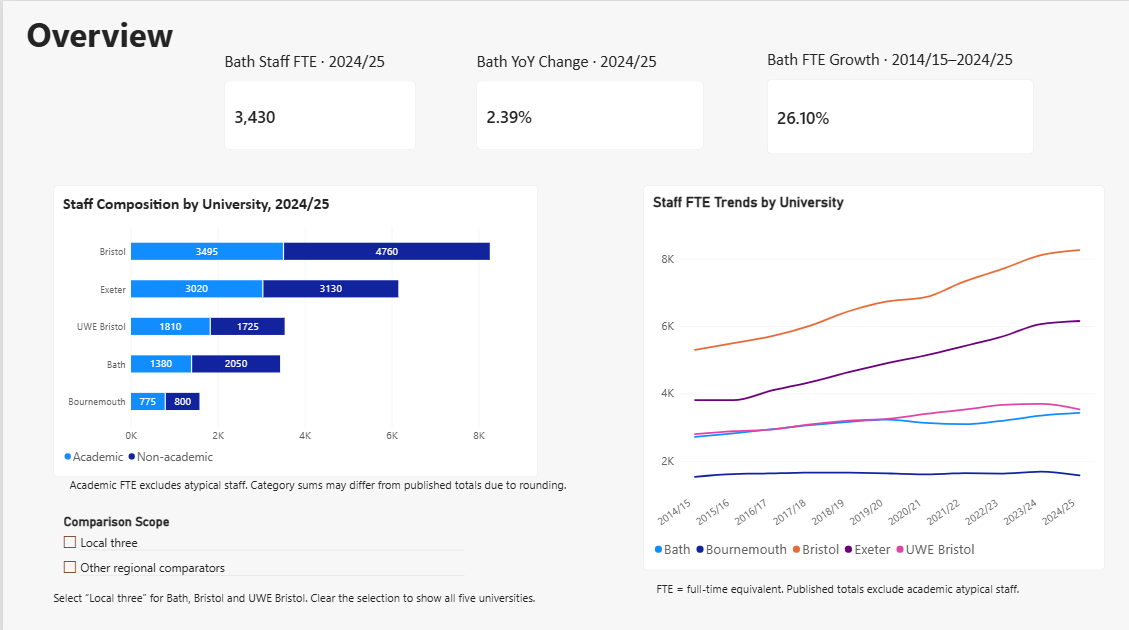

What the dashboard file says about the page in this screenshot:
{"tool":"powerbi","page":{"name":"Workforce Overview","canvas":[1920,1080],"ordinal":0},"visuals":[{"type":"lineChart","title":"Staff FTE Trends by University","fields":{"Category":["DimAcademicYear.academic_year"],"Series":["vw_hesa_selected_providers.provider_short_name"],"Y":["hesa_selected_published_totals.Published Total FTE"]},"box":[1085,312.5,782.5,652.5],"z":0},{"type":"textbox","box":[1107.5,982.5,686,32],"z":1000},{"type":"slicer","fields":{"Values":["vw_hesa_selected_providers.comparison_scope"]},"box":[96,870,687.5,187.5],"z":2000},{"type":"textbox","box":[86,997.5,910,42.5],"z":3000},{"type":"barChart","title":"Staff Composition by University, 2024/25","fields":{"Category":["vw_hesa_selected_providers.provider_short_name"],"Series":["hesa_selected_staff_composition.staff_group"],"Y":["hesa_selected_staff_composition.Staff Group FTE"]},"box":[85,312.5,822,494],"z":4000},{"type":"textbox","box":[112.5,807.5,848.3,63.3],"z":5000},{"type":"cardVisual","title":"Bath Staff FTE · 2024/25","fields":{"Data":["hesa_selected_published_totals.Bath FTE 2024/25"]},"box":[375,85,325,167.5],"z":6000},{"type":"cardVisual","title":"Bath YoY Change · 2024/25","fields":{"Data":["hesa_selected_published_totals.Bath YoY Change %"]},"box":[802.5,85,385,167.5],"z":7000},{"type":"cardVisual","title":"Bath FTE Growth · 2014/15–2024/25","fields":{"Data":["hesa_selected_published_totals.Bath FTE Growth %"]},"box":[1295,82.5,452.5,177.5],"z":8000},{"type":"textbox","box":[40,17.5,472.5,87.5],"z":9000}]}

Visuals, with their boxes in screenshot pixels (x1, y1, x2, y2), scaled from the page's 1920x1080 canvas onto the 1129x630 screenshot:
"Staff FTE Trends by University" lineChart: 638/182/1098/563
textbox: 651/573/1055/592
slicer - vw_hesa_selected_providers.comparison_scope: 56/508/461/617
textbox: 51/582/586/607
"Staff Composition by University, 2024/25" barChart: 50/182/533/470
textbox: 66/471/565/508
"Bath Staff FTE · 2024/25" cardVisual: 221/50/412/147
"Bath YoY Change · 2024/25" cardVisual: 472/50/698/147
"Bath FTE Growth · 2014/15–2024/25" cardVisual: 761/48/1028/152
textbox: 24/10/301/61
